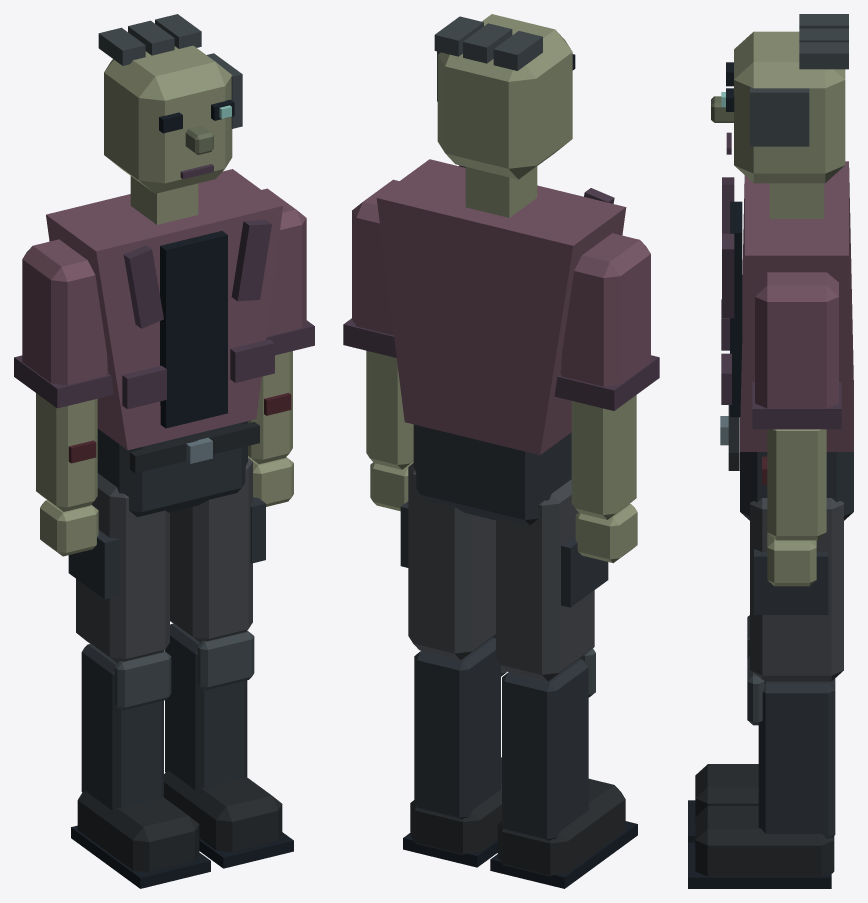
File: zombie.glb
3 renders of one model, left to right at view 1: azimuth 30°, elevation 25°; view 2: azimuth 150°, elevation 25°; view 3: azimuth 270°, elevation 25°, orthographic. The views are drawn at different scales.
Visible parts, largest first — view 1: Zombie_Jacket, Zombie_Face, Zombie_BlackShirt, Zombie_LeftTrouser, Zombie_RightTrouser, Zombie_RightSleeve, Zombie_RightShinMesh, Zombie_LeftShinMesh, Zombie_Pelvis, Zombie_RightBoot, Zombie_LeftBoot, Zombie_RightForearmMesh (+23 smaller); view 2: Zombie_Jacket, Zombie_Face, Zombie_RightShinMesh, Zombie_LeftShinMesh, Zombie_RightTrouser, Zombie_LeftTrouser, Zombie_RightSleeve, Zombie_Pelvis, Zombie_RightForearmMesh, Zombie_RightBoot, Zombie_LeftSleeve, Zombie_LeftForearmMesh (+12 smaller); view 3: Zombie_Jacket, Zombie_LeftShinMesh, Zombie_Face, Zombie_LeftSleeve, Zombie_LeftTrouser, Zombie_LeftBoot, Zombie_LeftForearmMesh, Zombie_TempleImplant, Zombie_LeftCargoPocket, Zombie_Pelvis, Zombie_RightBoot, Zombie_LeftHandMesh (+13 smaller).
Part boxes in pixels (<box>): Zombie_Jacket: <box>46,169,282,450</box>; Zombie_Face: <box>104,45,232,193</box>; Zombie_BlackShirt: <box>160,231,227,428</box>; Zombie_LeftTrouser: <box>170,458,252,642</box>; Zombie_RightTrouser: <box>76,473,169,663</box>; Zombie_RightSleeve: <box>22,239,108,385</box>; Zombie_RightShinMesh: <box>81,644,163,810</box>; Zombie_LeftShinMesh: <box>165,623,247,790</box>; Zombie_Pelvis: <box>97,421,247,517</box>; Zombie_RightBoot: <box>77,791,199,872</box>; Zombie_LeftBoot: <box>164,770,282,851</box>; Zombie_RightForearmMesh: <box>36,393,97,511</box>; Zombie_Jacket: <box>376,159,626,454</box>; Zombie_Face: <box>437,14,572,179</box>; Zombie_RightShinMesh: <box>502,659,588,840</box>; Zombie_LeftShinMesh: <box>414,637,500,819</box>; Zombie_RightTrouser: <box>496,479,594,681</box>; Zombie_LeftTrouser: <box>408,463,495,660</box>; Zombie_RightSleeve: <box>560,233,650,386</box>; Zombie_Pelvis: <box>413,424,571,525</box>; Zombie_RightForearmMesh: <box>571,395,636,519</box>; Zombie_RightBoot: <box>497,778,625,876</box>; Zombie_LeftSleeve: <box>352,179,398,335</box>; Zombie_LeftForearmMesh: <box>366,350,413,469</box>; Zombie_Jacket: <box>740,161,853,451</box>; Zombie_LeftShinMesh: <box>758,678,835,838</box>; Zombie_Face: <box>734,31,845,183</box>; Zombie_LeftSleeve: <box>755,272,838,408</box>; Zombie_LeftTrouser: <box>750,498,843,681</box>; Zombie_LeftBoot: <box>695,806,834,876</box>; Zombie_LeftForearmMesh: <box>767,429,826,540</box>; Zombie_TempleImplant: <box>750,87,809,146</box>; Zombie_LeftCargoPocket: <box>754,549,828,614</box>; Zombie_Pelvis: <box>740,452,853,520</box>; Zombie_RightBoot: <box>695,764,758,816</box>; Zombie_LeftHandMesh: <box>767,533,816,586</box>.
Size of the model in its own units: 0.62 by 1.82 by 0.335.
